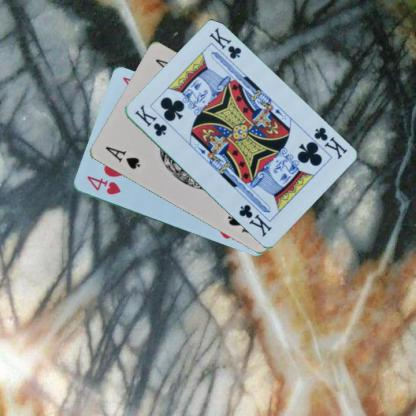4h: (84, 173, 122, 196)
As: (102, 144, 142, 170)
Kc: (311, 124, 348, 161), (132, 102, 168, 138)
